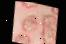plaque psoriasis: (32, 11, 59, 44), (19, 13, 38, 33), (11, 31, 30, 44), (18, 1, 41, 9), (50, 5, 59, 15)
